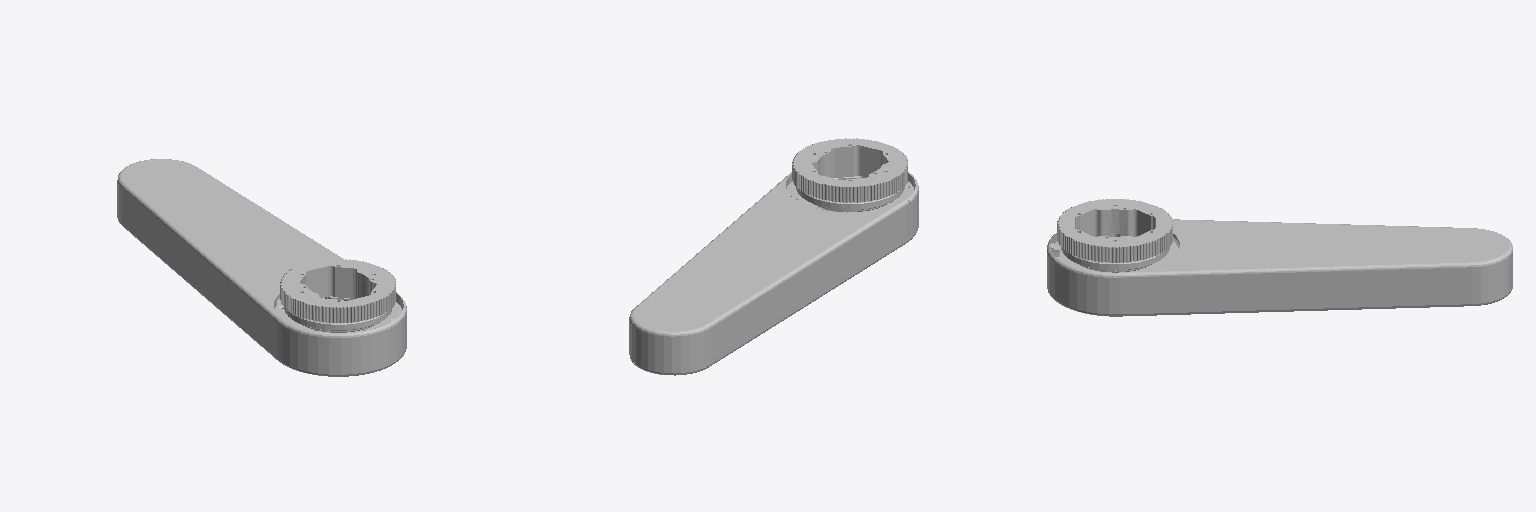
The model's file is OuterArm.obj.
The picture shows the model from 3 angles: view 1: azimuth 30°, elevation 25°; view 2: azimuth 150°, elevation 25°; view 3: azimuth 270°, elevation 25°; orthographic projection.
Parts seen in each view (by area): view 1: Srf1; view 2: Srf1; view 3: Srf1.
Boxes of the visible parts, x1=… form: Srf1: x1=117, y1=159, x2=406, y2=376; Srf1: x1=629, y1=138, x2=918, y2=375; Srf1: x1=1047, y1=199, x2=1512, y2=316.
Size of the model in its own units: 112 by 59.3 by 381.